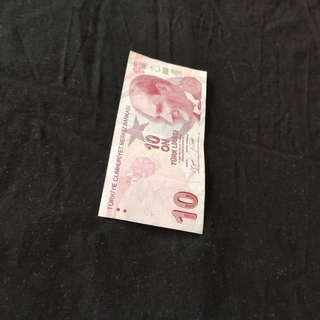10TLFront: (96, 48, 208, 235)
